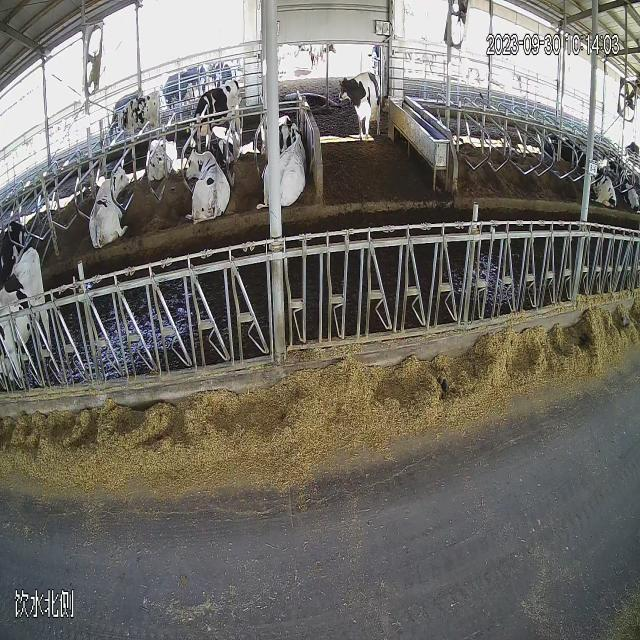lying down: (254, 115, 309, 244), (85, 161, 132, 267), (142, 129, 178, 203), (585, 150, 619, 226)
standing: (181, 65, 248, 168), (334, 54, 388, 166), (180, 136, 234, 248), (108, 82, 167, 179)
